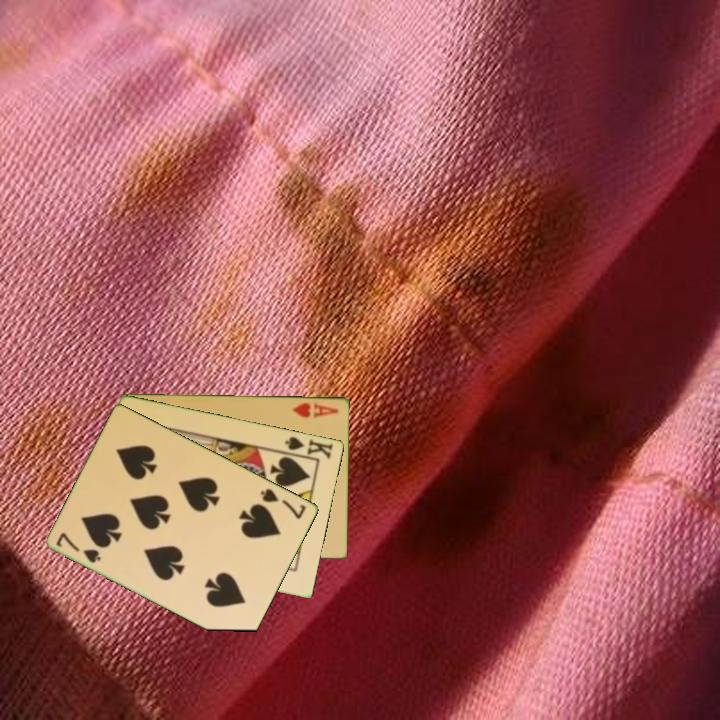7s: (257, 485, 309, 522), (53, 529, 105, 566)
Ah: (290, 399, 342, 421)
Ks: (279, 433, 336, 462)
